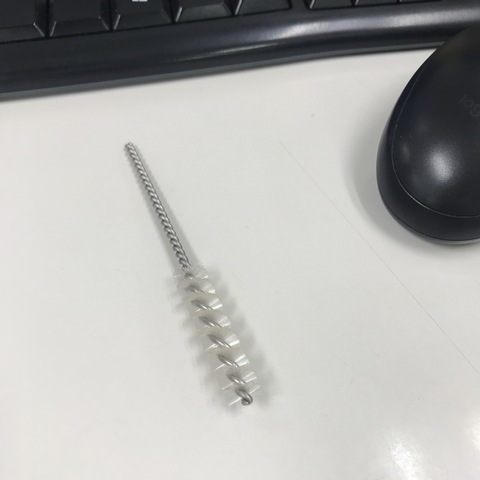Twist Brush-B: (120, 141, 266, 410)
